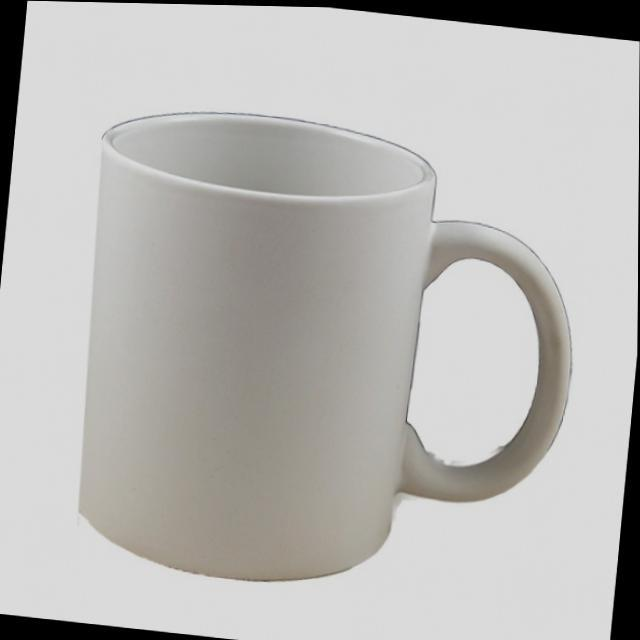cup: (59, 96, 595, 616)
